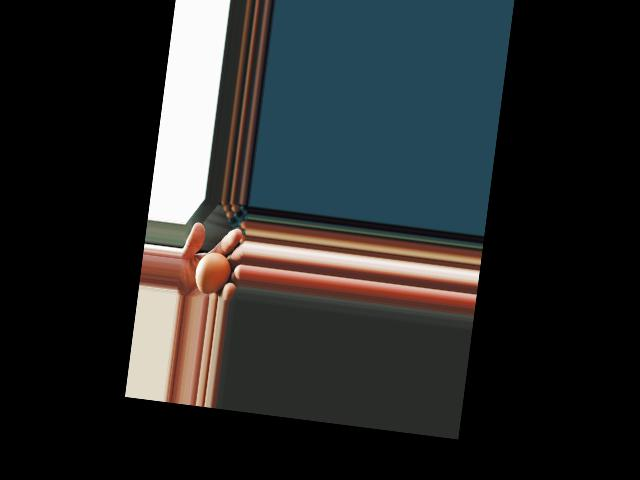egg: (193, 250, 233, 297)
